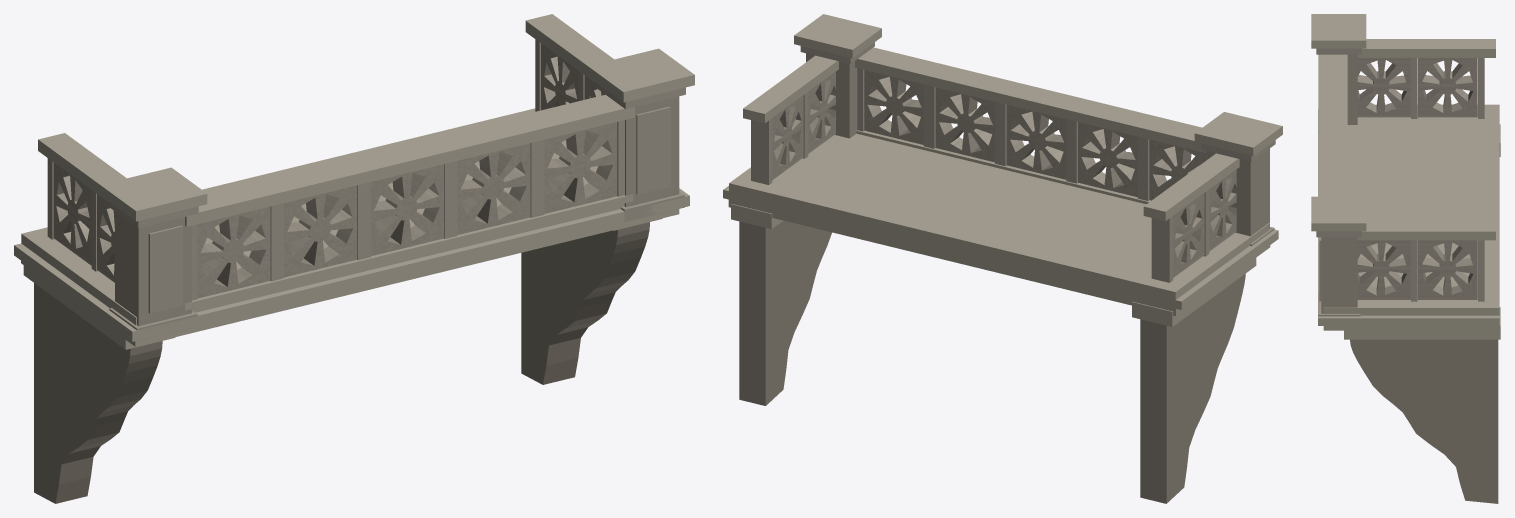
Rendered from huangpu-associate-mission-balcony-lod.glb.
The picture shows the model from 3 angles, left to right: view 1: azimuth 30°, elevation 25°; view 2: azimuth 150°, elevation 25°; view 3: azimuth 270°, elevation 25°; orthographic projection. The views are drawn at different scales.
Parts seen in each view (by area): view 1: 协进大楼沿街五格透花石阳台与挑托; view 2: 协进大楼沿街五格透花石阳台与挑托; view 3: 协进大楼沿街五格透花石阳台与挑托.
Part boxes in pixels (left/top/right/bottom): 协进大楼沿街五格透花石阳台与挑托: left=14, top=14, right=694, bottom=503; 协进大楼沿街五格透花石阳台与挑托: left=723, top=14, right=1282, bottom=503; 协进大楼沿街五格透花石阳台与挑托: left=1311, top=14, right=1500, bottom=503.
Size of the model in its own units: 3.42 by 2.19 by 1.31.
Materials: 5 (1 with a texture image).
